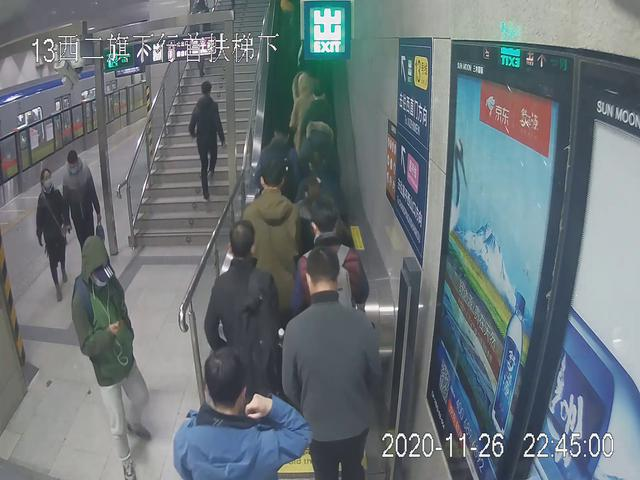person: (283, 248, 389, 480), (199, 218, 291, 464), (71, 235, 154, 480), (285, 196, 373, 419), (171, 346, 312, 480), (237, 157, 298, 380), (65, 145, 105, 287), (35, 170, 74, 303), (190, 79, 229, 208)
